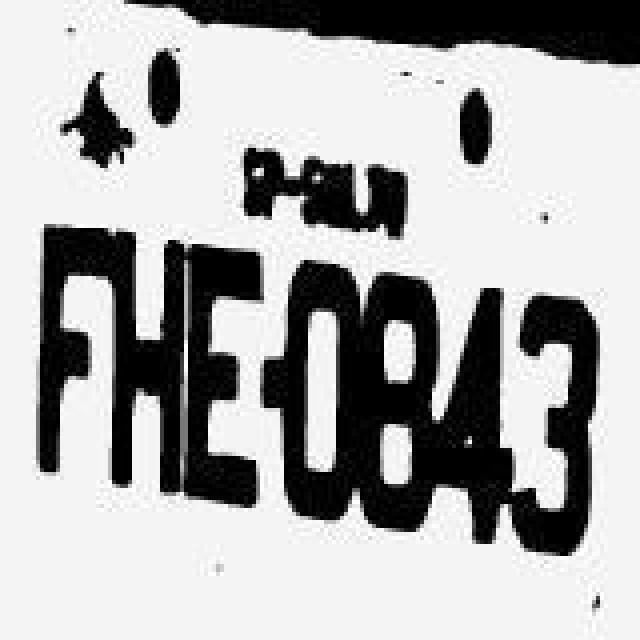3: (516, 284, 604, 572)
4: (436, 276, 524, 564)
8: (358, 268, 442, 556)
E: (180, 238, 276, 530)
F: (30, 210, 114, 510)
H: (102, 222, 186, 514)
O: (278, 254, 362, 546)
